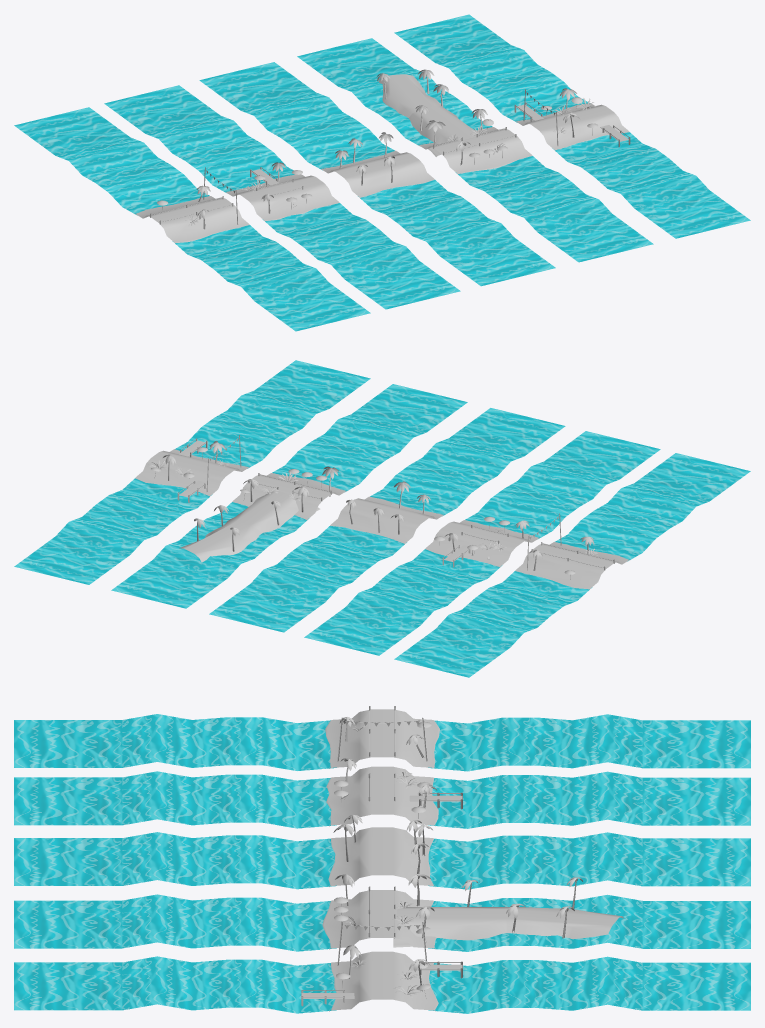
Rendered from Island_Blocks_Modular.fbx.
The picture shows the model from 3 angles, top to bottom: view 1: azimuth 30°, elevation 25°; view 2: azimuth 150°, elevation 25°; view 3: azimuth 270°, elevation 25°; orthographic projection. The views are drawn at different scales.
Visible parts, largest first — view 1: Island_Block04, Island_Block01, Island_Block03, Island_Block05, Island_Block02; view 2: Island_Block01, Island_Block04, Island_Block03, Island_Block05, Island_Block02; view 3: Island_Block04, Island_Block05, Island_Block03, Island_Block02, Island_Block01.
Boxes of the visible parts, x1,y1,x2,y2 form: Island_Block04: (297, 38, 653, 262); Island_Block01: (14, 107, 370, 331); Island_Block03: (199, 62, 555, 286); Island_Block05: (394, 14, 750, 238); Island_Block02: (104, 85, 460, 309); Island_Block01: (394, 453, 750, 677); Island_Block04: (111, 384, 467, 608); Island_Block03: (209, 408, 565, 632); Island_Block05: (14, 360, 370, 584); Island_Block02: (304, 431, 660, 655); Island_Block04: (14, 874, 750, 951); Island_Block05: (14, 922, 750, 1013); Island_Block03: (14, 815, 750, 889); Island_Block02: (14, 758, 750, 828); Island_Block01: (14, 706, 750, 771).
Bounding box in the file's own units: 637 × 50.26 × 683.
